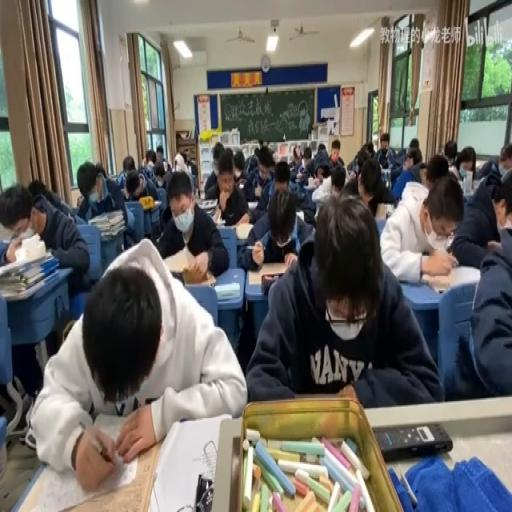calculator: (420, 262, 480, 294), (247, 260, 288, 286), (182, 269, 214, 286), (214, 282, 240, 300), (234, 219, 252, 240), (0, 220, 15, 244), (196, 195, 218, 209), (374, 202, 389, 218), (470, 176, 484, 192), (211, 205, 224, 222), (295, 208, 305, 222), (296, 169, 306, 181), (306, 176, 315, 188), (247, 201, 258, 209)
paper: (33, 236, 247, 486), (250, 192, 442, 410), (447, 165, 512, 397), (0, 179, 90, 299), (155, 168, 229, 279), (76, 158, 134, 247), (263, 155, 314, 230), (347, 155, 396, 218), (240, 144, 272, 206), (471, 141, 510, 183), (202, 142, 228, 196), (123, 169, 156, 205), (493, 174, 512, 233), (398, 145, 425, 186), (424, 154, 450, 189), (375, 132, 396, 168), (310, 175, 334, 202), (154, 154, 172, 189), (329, 165, 346, 196), (327, 139, 344, 168), (232, 150, 246, 184), (296, 145, 312, 174), (28, 179, 48, 202), (313, 150, 330, 176), (442, 138, 458, 165), (346, 151, 362, 175), (454, 149, 465, 175), (122, 154, 134, 172), (94, 160, 106, 178), (181, 152, 190, 172), (363, 142, 374, 158), (464, 161, 474, 176), (408, 136, 418, 150), (146, 150, 155, 164), (156, 145, 163, 161), (317, 169, 326, 181), (253, 145, 259, 161), (76, 195, 83, 206), (318, 142, 326, 151), (174, 162, 181, 171), (258, 138, 264, 148), (294, 150, 300, 160), (272, 150, 278, 160)
person: (374, 420, 451, 460), (194, 471, 214, 509), (168, 268, 184, 284)
